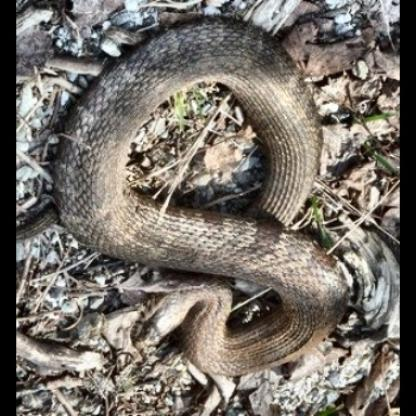Snake: (44, 19, 343, 373)
